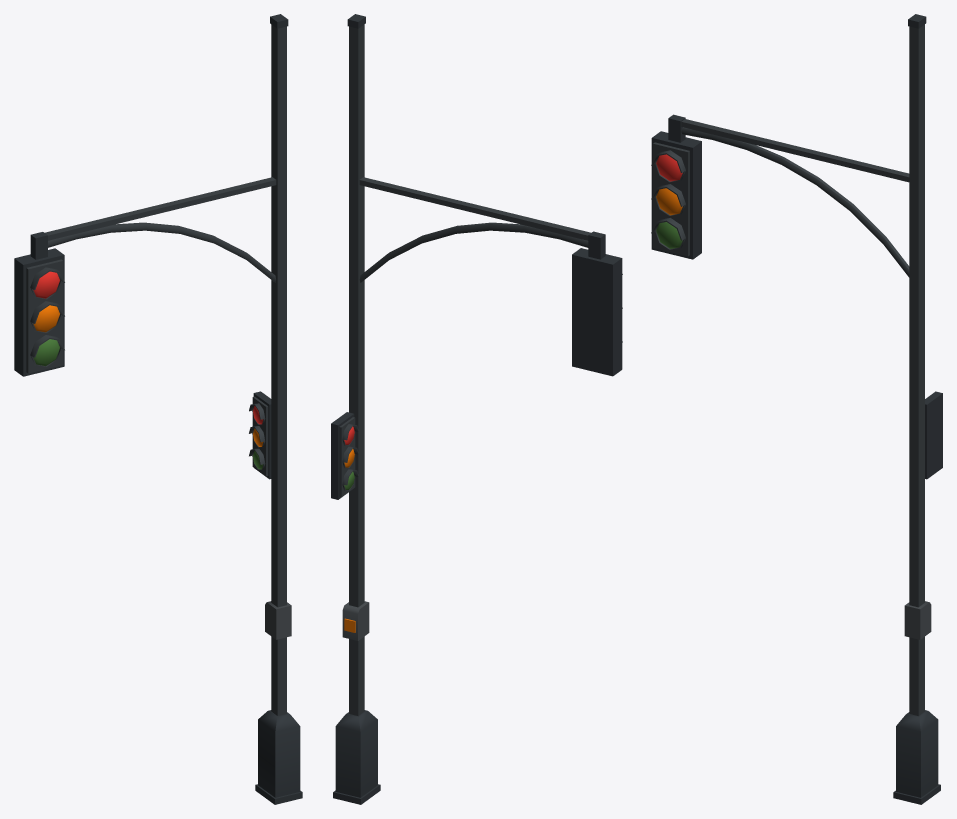
The model's file is SM_FloorProps_TrafficLight_01.fbx.
3 renders of one model, left to right at view 1: azimuth 30°, elevation 25°; view 2: azimuth 150°, elevation 25°; view 3: azimuth 330°, elevation 25°, orthographic.
Parts seen in each view (by area): view 1: SM_FloorProps_TrafficLight_01; view 2: SM_FloorProps_TrafficLight_01; view 3: SM_FloorProps_TrafficLight_01.
Part boxes in pixels (x1=…): SM_FloorProps_TrafficLight_01: x1=14, y1=14, x2=302, y2=804; SM_FloorProps_TrafficLight_01: x1=331, y1=14, x2=622, y2=804; SM_FloorProps_TrafficLight_01: x1=651, y1=14, x2=942, y2=804.
Bounding box in the file's own units: 2.06 × 5.56 × 0.4235.
